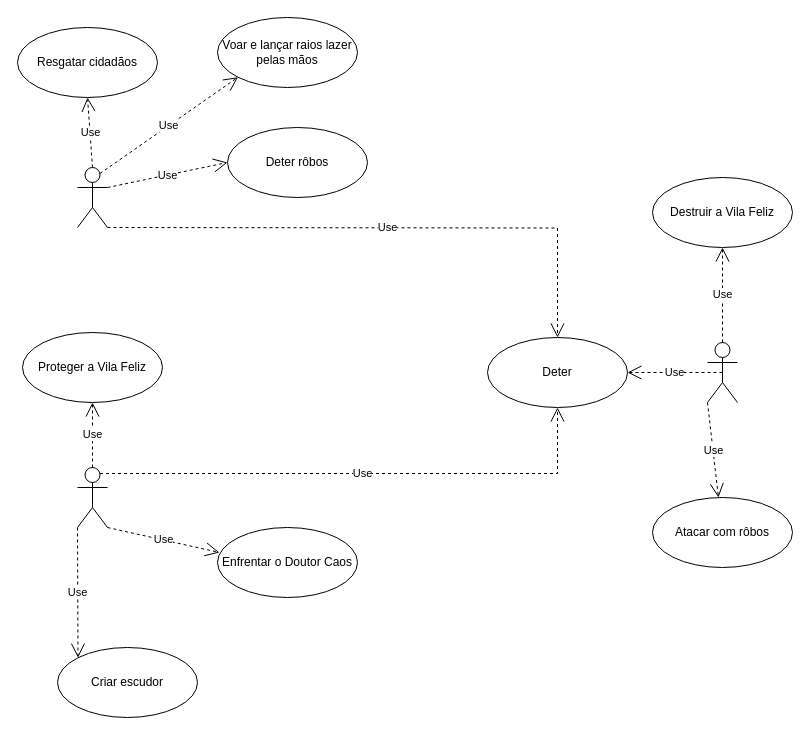
This 810x735 diagram has some shape labels left out. The centre of each missing label's shape, as x and y in pixels:
Doutor Caos: point (722, 372)
Mega Maria: point (92, 497)
Super João: point (92, 197)
